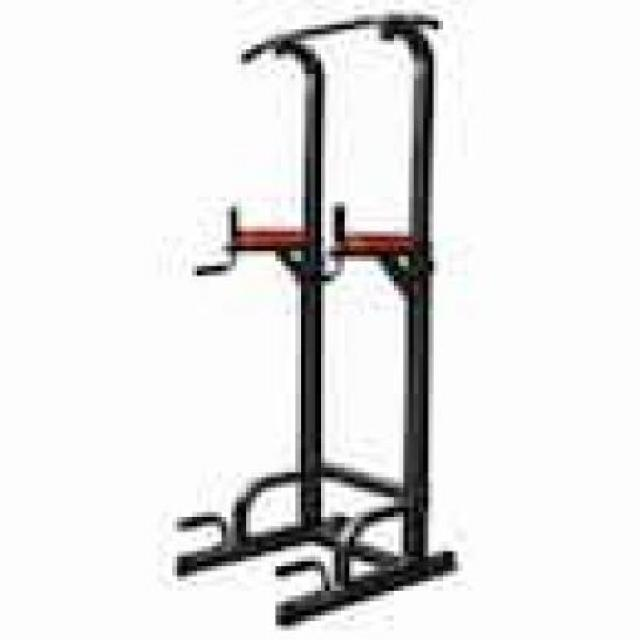chinning dipping: (177, 12, 457, 625)
